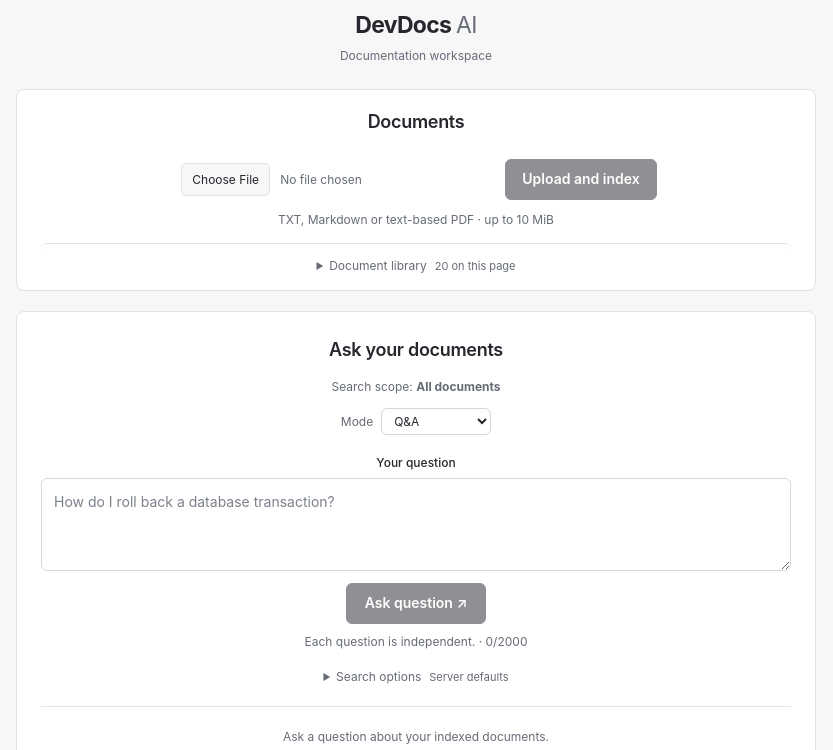
Test: documentation workspace › paginates a full library and cancels the previous list request
Click the heading "Document library20 on this page": (422, 266) left=329, top=258, right=516, bottom=273
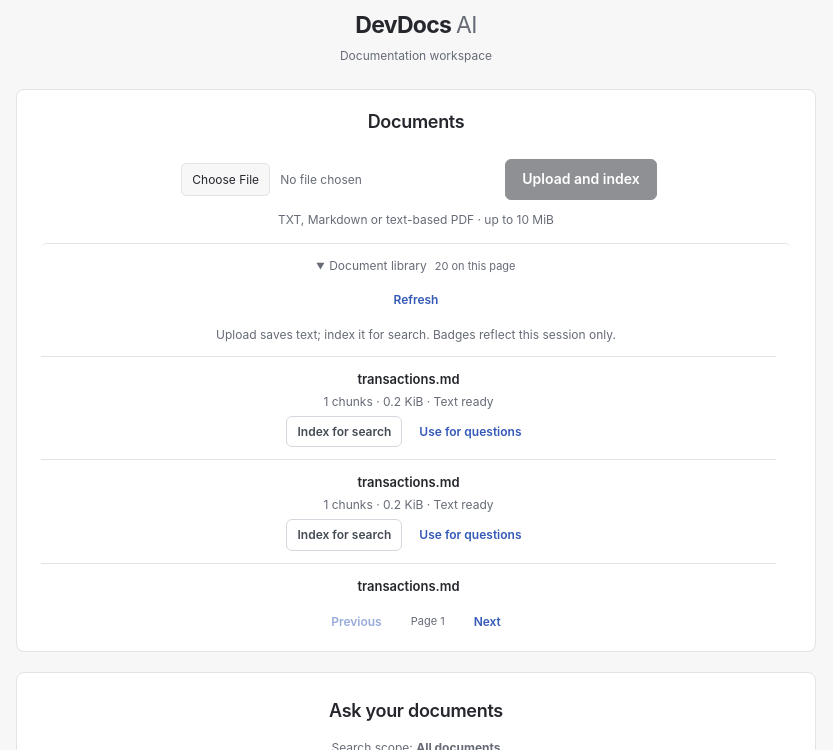
Click the button "Next": (487, 622) left=465, top=606, right=510, bottom=637
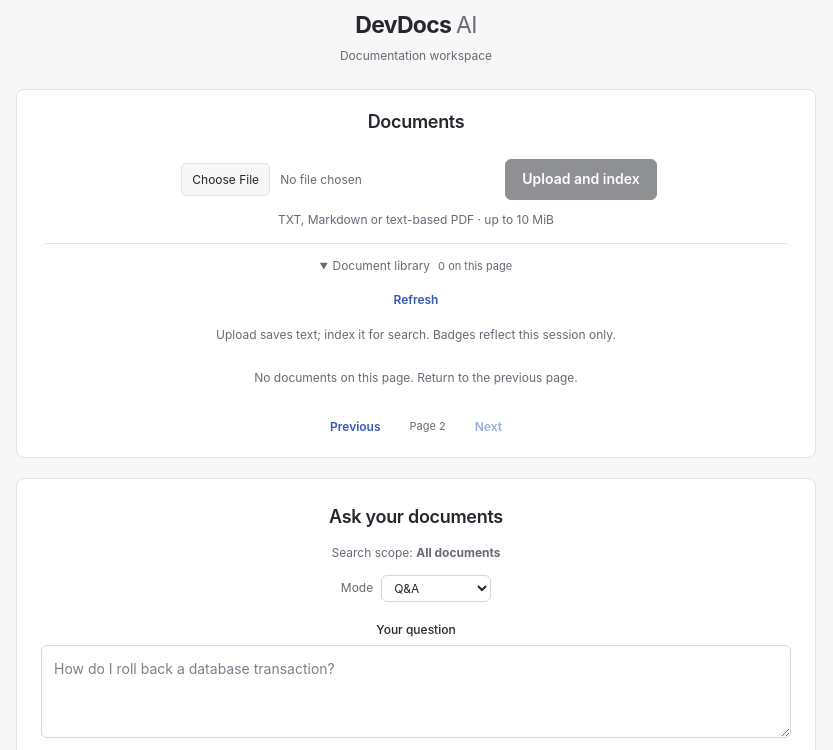
Check: the text "No documents on this page. Return to the previous page." is shown, box left=254, top=370, right=578, bottom=385
Click the button "Previous": (355, 427) left=321, top=411, right=390, bottom=443
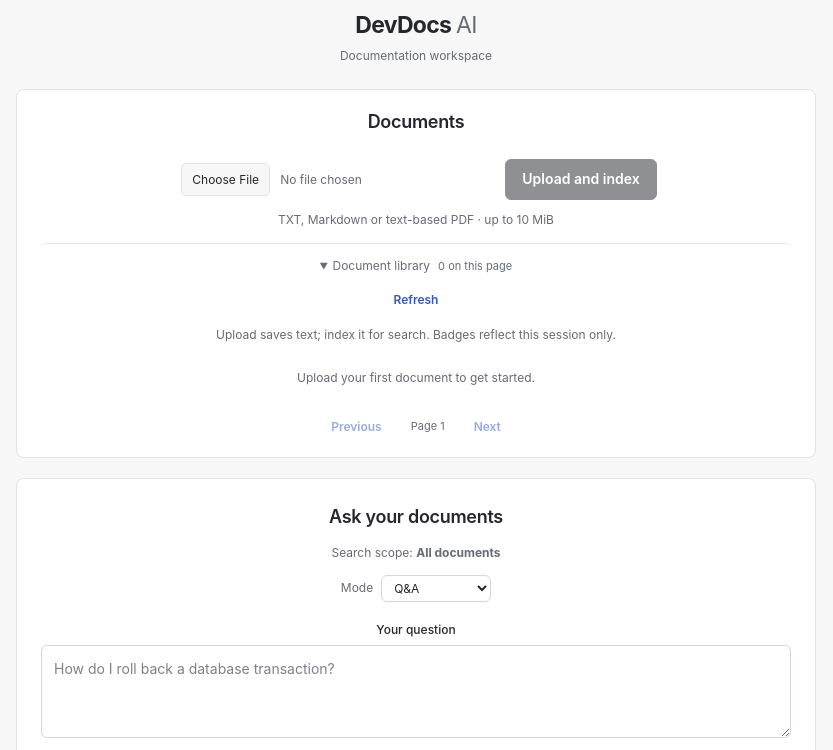
Check: the text "Upload your first document to get started." is shown, box left=297, top=370, right=535, bottom=385
